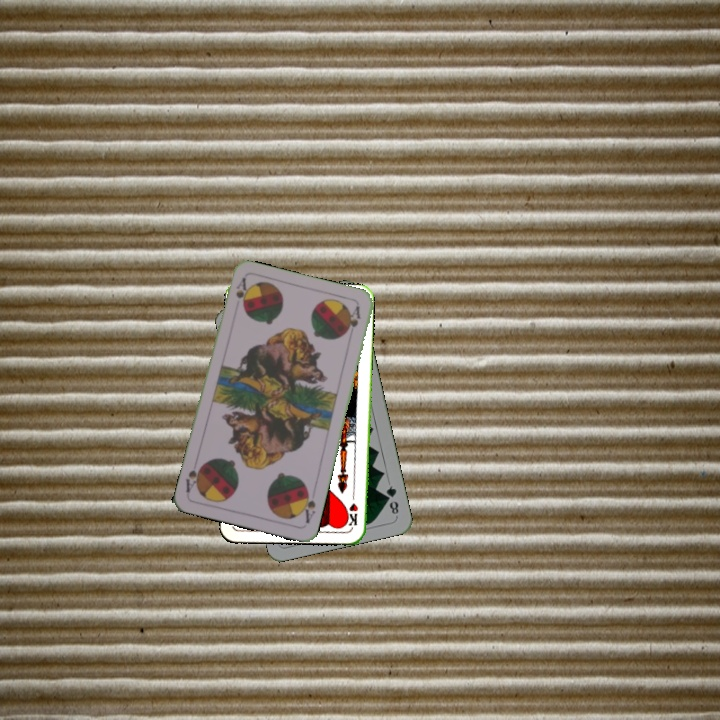G8: (382, 481, 401, 517)
HK: (344, 488, 360, 528)
SA: (297, 485, 318, 526), (232, 274, 249, 309)
